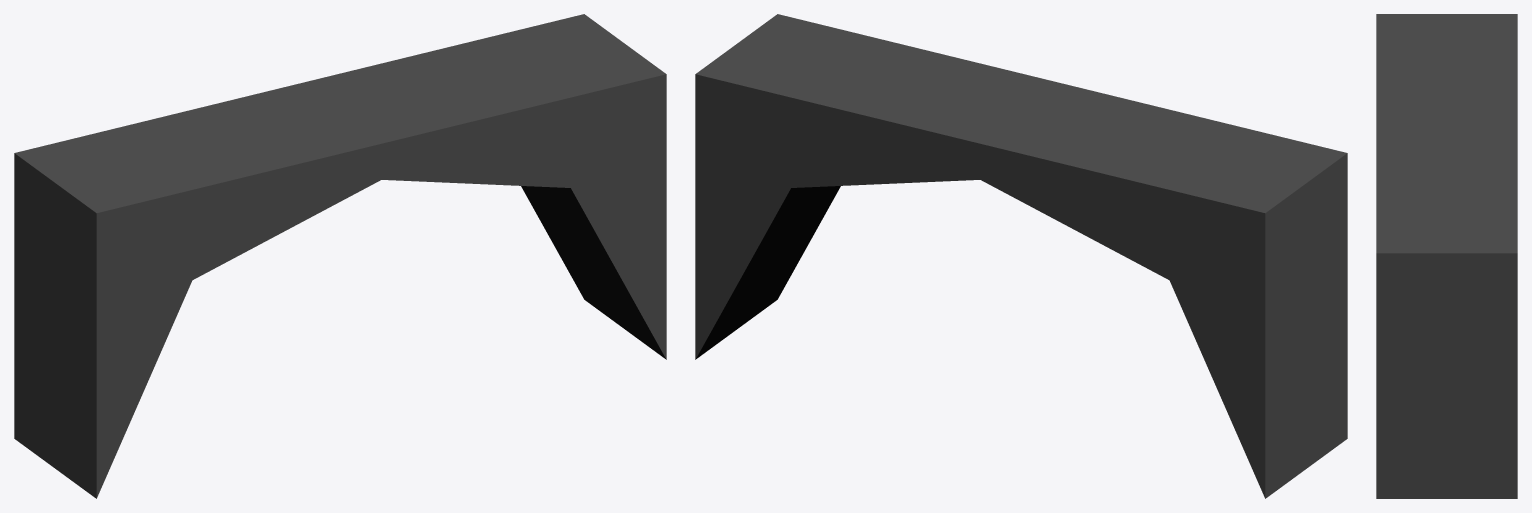
Rendered from Wall_Flat_Vault_Small.fbx.
3 renders of one model, left to right at view 1: azimuth 30°, elevation 25°; view 2: azimuth 150°, elevation 25°; view 3: azimuth 270°, elevation 25°, orthographic. The views are drawn at different scales.
Parts seen in each view (by area): view 1: Wall_Flat_Vault_Small; view 2: Wall_Flat_Vault_Small; view 3: Wall_Flat_Vault_Small.
Part boxes in pixels (x1,y1,x2,y2): Wall_Flat_Vault_Small: (14, 14, 666, 498); Wall_Flat_Vault_Small: (695, 14, 1347, 498); Wall_Flat_Vault_Small: (1376, 14, 1517, 498).
Bounding box in the file's own units: 800 × 383 × 200.
